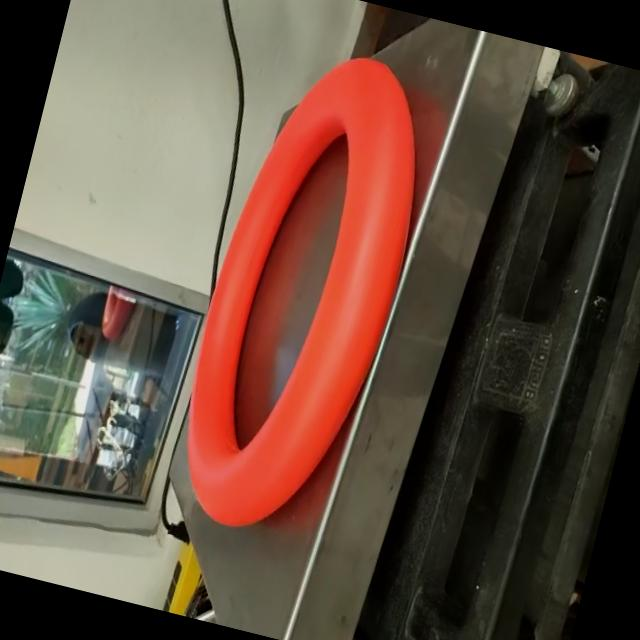note: (154, 34, 452, 556)
